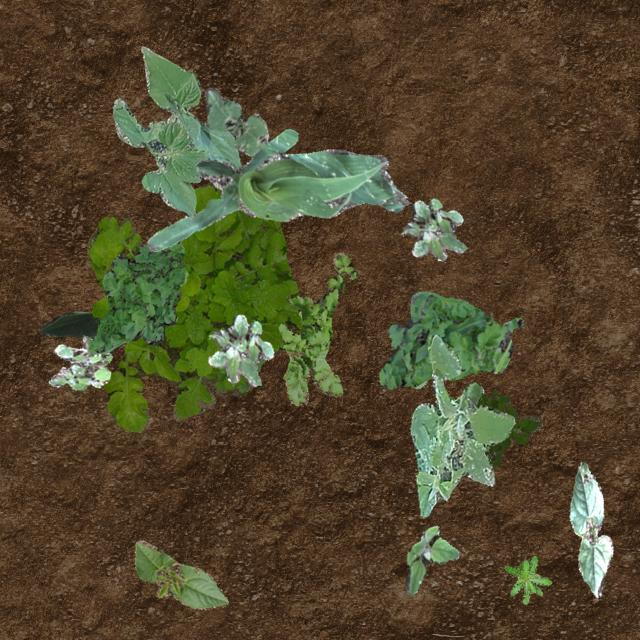crop: (146, 127, 408, 250), (112, 46, 240, 214), (132, 538, 228, 608), (568, 461, 612, 596), (204, 86, 268, 154), (38, 310, 98, 338)
weed: (86, 180, 304, 432), (408, 332, 514, 516), (378, 290, 524, 388), (278, 250, 356, 404), (88, 240, 188, 354), (474, 390, 542, 466), (208, 314, 272, 386), (401, 198, 466, 260), (404, 524, 458, 594), (48, 334, 112, 388), (504, 554, 550, 604)
